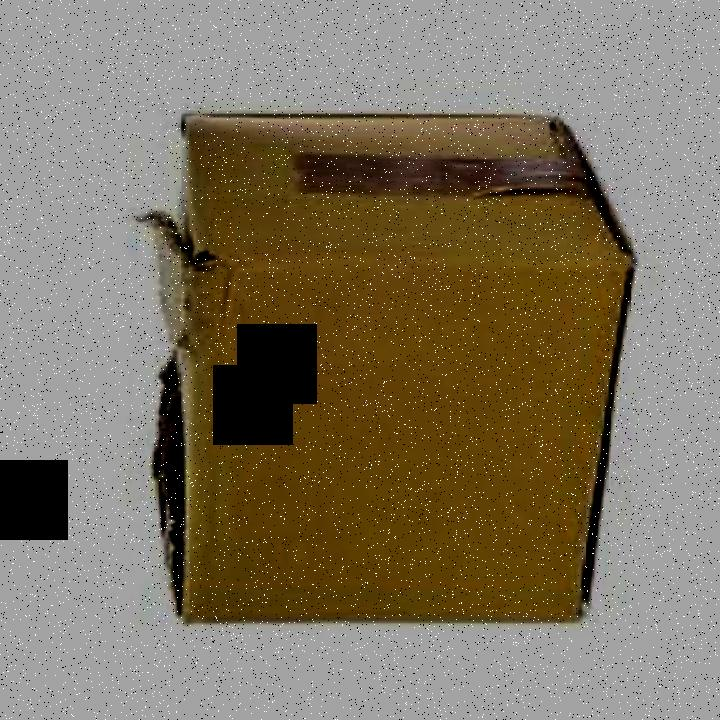box: (129, 92, 639, 635)
